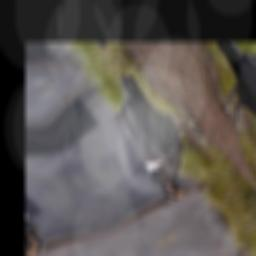Crow: (85, 56, 237, 208)
